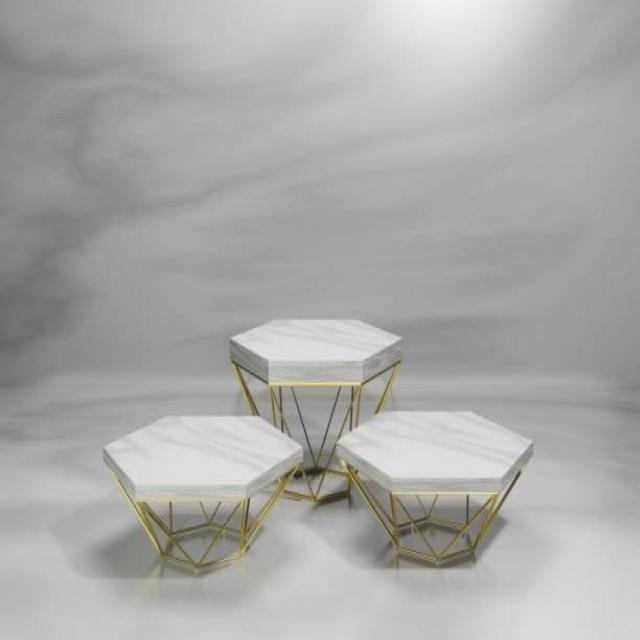table: (228, 315, 402, 505), (102, 411, 304, 574), (334, 408, 534, 568)
